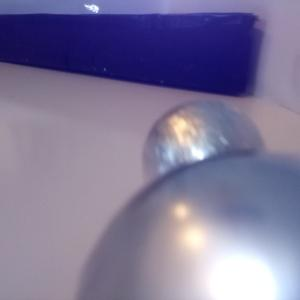zone: (1, 13, 256, 97)
